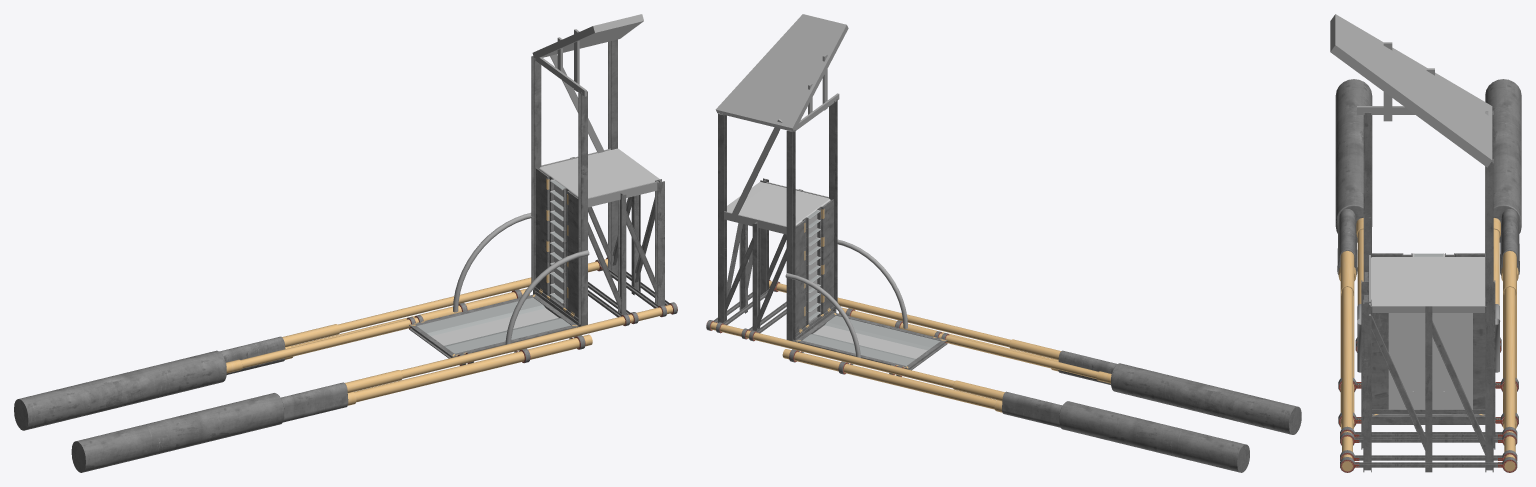
File: ConningTower.fbx
3 views of the same model, side by side, from view 1: azimuth 30°, elevation 25°; view 2: azimuth 150°, elevation 25°; view 3: azimuth 270°, elevation 25° (orthographic). The views are drawn at different scales.
Parts seen in each view (by area): view 1: Hydraulic_Frame (×2), Hydraulic_Arm (×2), Girder26, Floor1, Diamond_Floor, Copperpanel, Girder18, Celling, Hydraulic_Casing (×2), Floor_Frame16, Mesh_COPY_OTHER_SIDE, Steelbeams (+9 smaller); view 2: Hydraulic_Frame (×2), Hydraulic_Arm (×2), Celling, Girder26, Floor1, Diamond_Floor, Copperpanel, Hydraulic_Casing (×2), Girder18, Floor_Frame16, Mesh_COPY_OTHER_SIDE, Steelbeams (+8 smaller); view 3: Hydraulic_Frame (×2), Celling, MeshBacking, Floor1, Hydraulic_Arm (×2), Copperpanel, beam (×4), Girder26, Girder28, Girder18, Girder20, Hydraulic_Casing (×2) (+10 smaller).
Boxes of the visible parts, left/top/right/bottom form: Hydraulic_Frame (×2): left=14, top=336, right=348, bottom=472; Hydraulic_Arm (×2): left=240, top=259, right=672, bottom=402; Girder26: left=531, top=39, right=617, bottom=292; Floor1: left=539, top=148, right=659, bottom=197; Diamond_Floor: left=417, top=297, right=570, bottom=353; Copperpanel: left=535, top=168, right=578, bottom=317; Girder18: left=578, top=90, right=587, bottom=326; Celling: left=532, top=14, right=643, bottom=59; Hydraulic_Casing (×2): left=226, top=324, right=402, bottom=405; Floor_Frame16: left=409, top=294, right=578, bottom=358; Mesh_COPY_OTHER_SIDE: left=431, top=308, right=558, bottom=345; Steelbeams: left=534, top=176, right=578, bottom=321; Hydraulic_Frame (×2): left=1002, top=350, right=1301, bottom=472; Hydraulic_Arm (×2): left=710, top=281, right=1098, bottom=409; Celling: left=715, top=14, right=848, bottom=131; Girder26: left=718, top=113, right=795, bottom=341; Floor1: left=727, top=182, right=830, bottom=226; Diamond_Floor: left=802, top=315, right=940, bottom=365; Copperpanel: left=795, top=199, right=833, bottom=333; Hydraulic_Casing (×2): left=953, top=339, right=1111, bottom=412; Girder18: left=829, top=99, right=837, bottom=311; Floor_Frame16: left=795, top=312, right=947, bottom=370; Mesh_COPY_OTHER_SIDE: left=813, top=325, right=927, bottom=358; Steelbeams: left=795, top=206, right=834, bottom=336; Hydraulic_Frame (×2): left=1335, top=79, right=1521, bottom=275; Celling: left=1330, top=14, right=1492, bottom=167; MeshBacking: left=1388, top=313, right=1472, bottom=409; Floor1: left=1370, top=257, right=1485, bottom=306; Hydraulic_Arm (×2): left=1340, top=229, right=1516, bottom=471; Copperpanel: left=1372, top=253, right=1485, bottom=409; beam (×4): left=1355, top=432, right=1502, bottom=467; Girder26: left=1485, top=110, right=1493, bottom=472; Girder28: left=1370, top=315, right=1485, bottom=454; Girder18: left=1363, top=112, right=1371, bottom=417; Girder20: left=1363, top=299, right=1371, bottom=472; Hydraulic_Casing (×2): left=1338, top=218, right=1518, bottom=295.
Size of the model in its own units: 1827 by 962 by 393.
